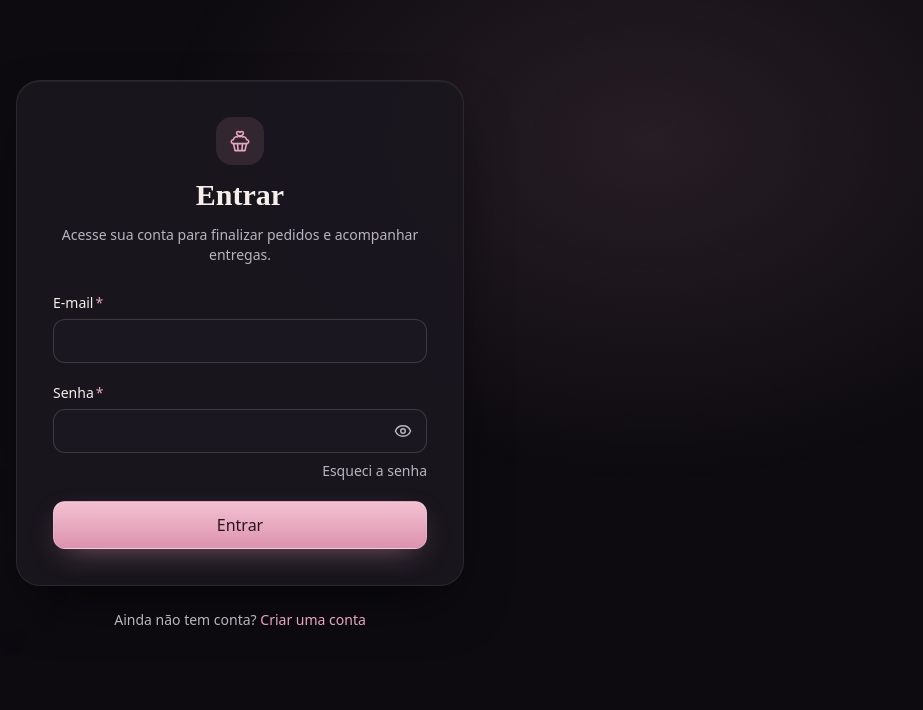
Test: LoginPage › exibe mensagem genérica para credenciais inválidas (US02 CA#04)
Type "maria@example.com" into the field labelled "E-mail*". click: (240, 341)
box: [53,319,427,363]
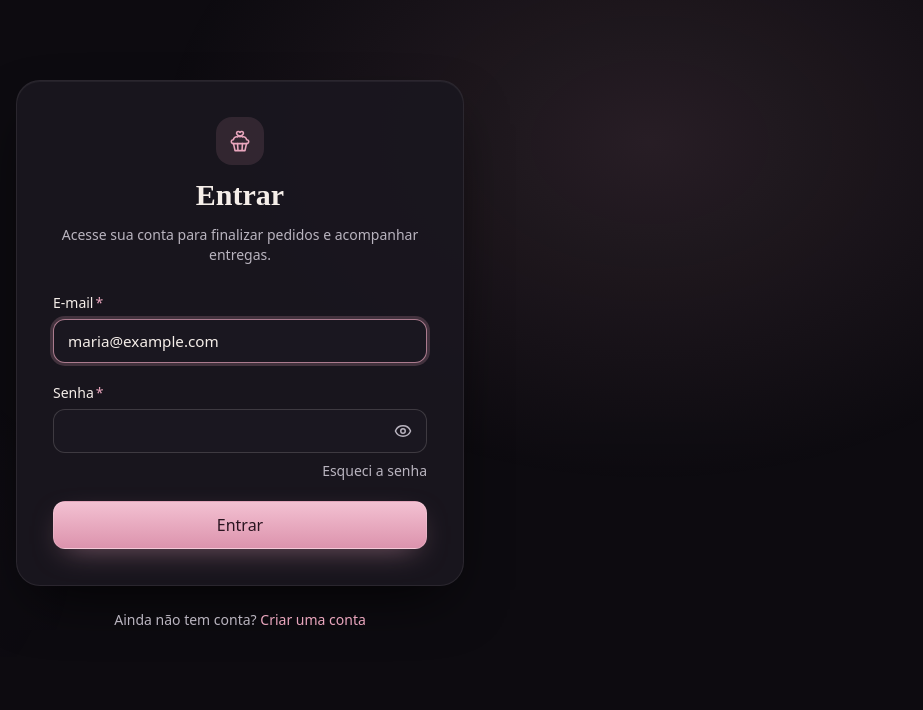
Type "cupcake2026" into the password field labelled "Senha*". click: (240, 431)
box: [53,409,427,453]
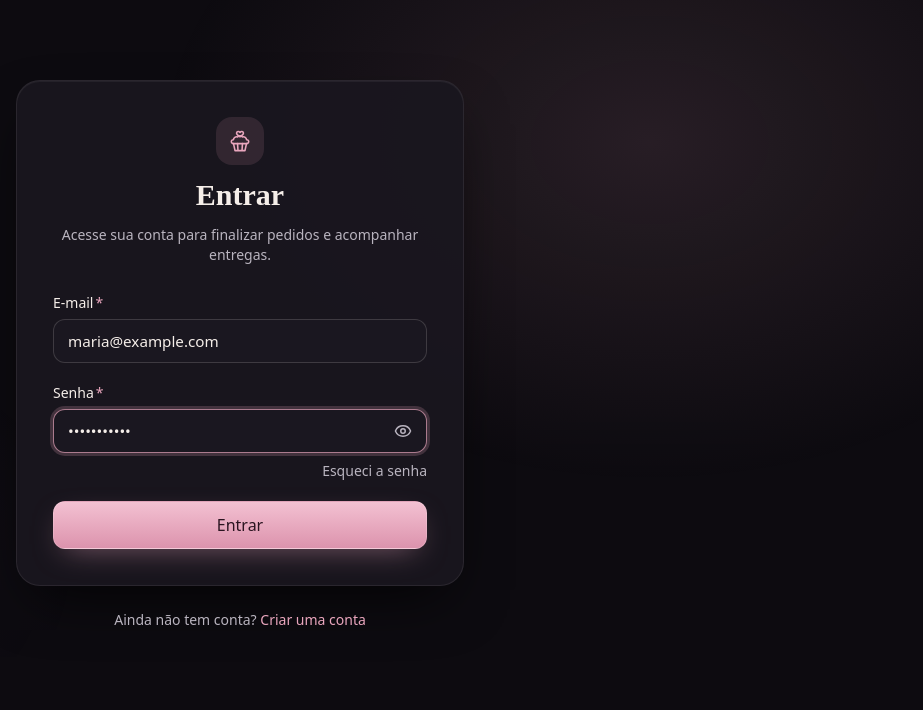
Click the button "Entrar". click: click(240, 525)
box: [53,501,427,549]
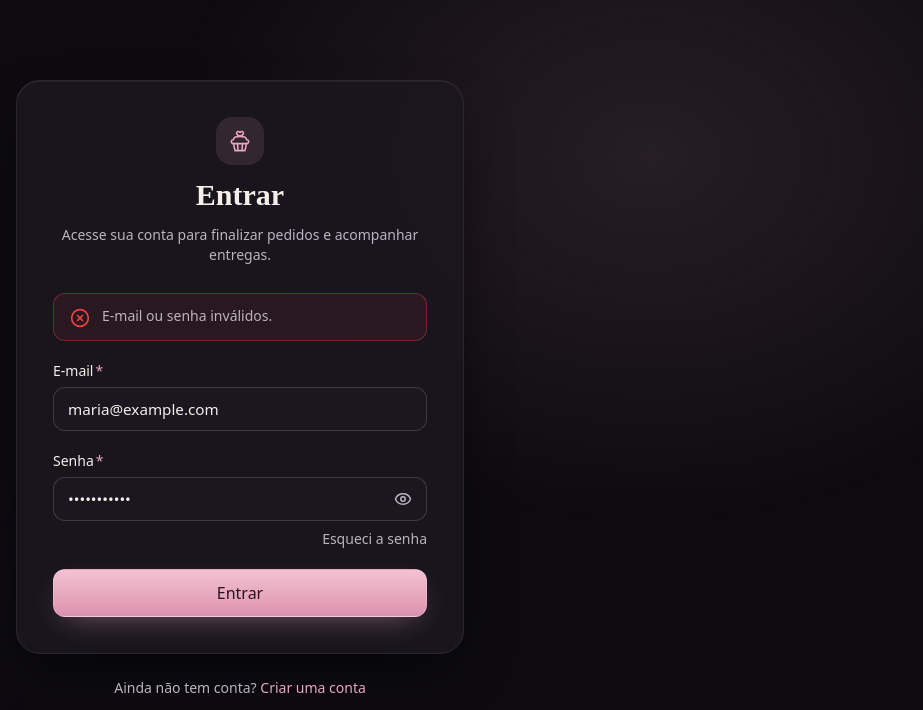
Result: the message reads "E-mail ou senha inválidos." at [102,306,272,325]
